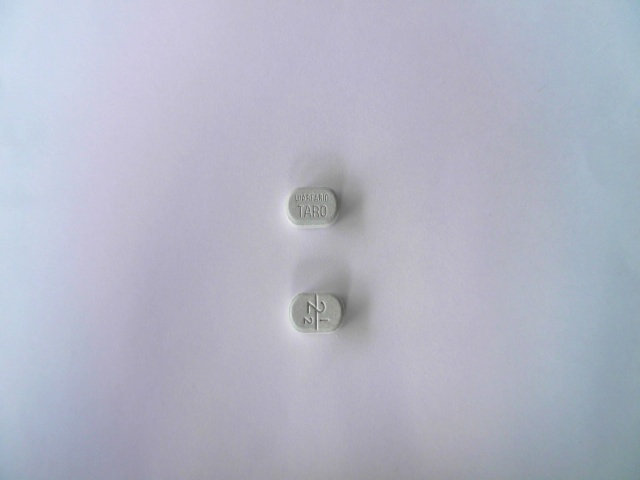1/2: (300, 314, 330, 327)
2: (305, 300, 326, 317)
A: (305, 204, 312, 219)
O: (320, 204, 327, 220)
R: (313, 205, 320, 219)
T: (296, 204, 304, 219)
|: (312, 292, 319, 335)
